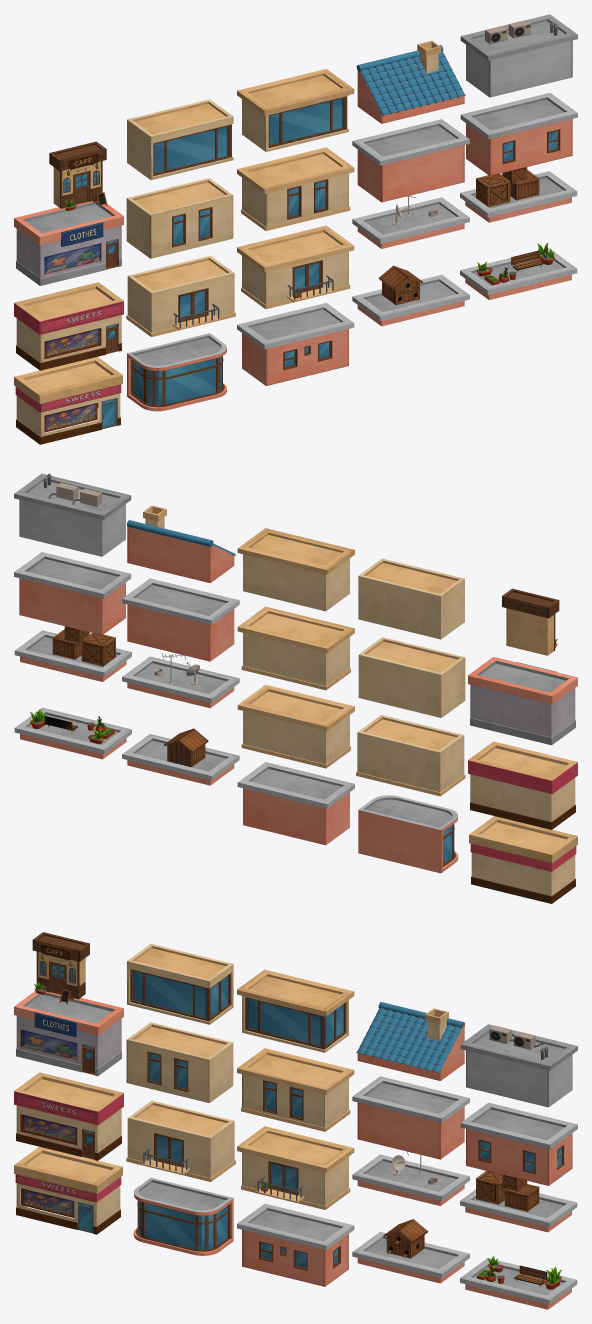
The picture shows the model from 3 angles, top to bottom: view 1: azimuth 30°, elevation 25°; view 2: azimuth 150°, elevation 25°; view 3: azimuth 330°, elevation 25°; orthographic projection.
Visible parts, largest first — view 1: Building.001, Building.013, Building.002, Cube.002_Plate, Cube.002_Plate.001, Cube.002_Plate.006, Cube.002_Plate.005, Cube.002_Plate.007, Cube.002_Plate.004, Cube.002_Plate.002, Cube, Cube.002_Plate.003 (+11 smaller); view 2: Building.001, Building.002, Building.013, Cube.002_Plate, Cube.002_Plate.001, Cube.002_Plate.006, Cube.002_Plate.004, Cube.002_Plate.005, Cube.002_Plate.007, Cube.002_Plate.002, Cube, Cube.002_Plate.003 (+11 smaller); view 3: Building.001, Building.013, Building.002, Cube.002_Plate, Cube.002_Plate.001, Cube.002_Plate.006, Cube.002_Plate.004, Cube.002_Plate.005, Cube.002_Plate.007, Cube.002_Plate.002, Cube, Cube.002_Plate.003 (+11 smaller).
Part boxes in pixels (x1,y1,x2,y2): Building.001: (14, 282, 123, 370); Building.013: (14, 357, 122, 444); Building.002: (14, 201, 123, 285); Cube.002_Plate: (237, 147, 354, 230); Cube.002_Plate.001: (237, 225, 354, 309); Cube.002_Plate.006: (352, 119, 469, 202); Cube.002_Plate.005: (237, 303, 354, 385); Cube.002_Plate.007: (460, 93, 577, 175); Cube.002_Plate.004: (237, 69, 354, 151); Cube.002_Plate.002: (126, 255, 235, 336); Cube: (126, 178, 233, 258); Cube.002_Plate.003: (127, 99, 233, 180); Building.001: (468, 741, 577, 829); Building.002: (468, 657, 577, 745); Building.013: (469, 816, 577, 903); Cube.002_Plate: (237, 606, 354, 690); Cube.002_Plate.001: (237, 684, 354, 768); Cube.002_Plate.006: (122, 578, 239, 661); Cube.002_Plate.004: (237, 528, 354, 611); Cube.002_Plate.005: (237, 762, 354, 845); Cube.002_Plate.007: (14, 552, 131, 635); Cube.002_Plate.002: (356, 715, 465, 796); Cube: (358, 637, 465, 717); Cube.002_Plate.003: (358, 558, 464, 639); Building.001: (14, 1072, 123, 1160); Building.013: (14, 1146, 122, 1234); Building.002: (14, 991, 123, 1076); Cube.002_Plate: (237, 1048, 354, 1131); Cube.002_Plate.001: (237, 1126, 354, 1209); Cube.002_Plate.006: (352, 1076, 469, 1159); Cube.002_Plate.004: (237, 969, 354, 1052); Cube.002_Plate.005: (237, 1203, 354, 1286); Cube.002_Plate.007: (460, 1102, 577, 1185); Cube.002_Plate.002: (126, 1100, 235, 1181); Cube: (126, 1022, 233, 1102); Cube.002_Plate.003: (127, 944, 233, 1024).
Bounding box in the file's own units: 2592 × 1338 × 285.
